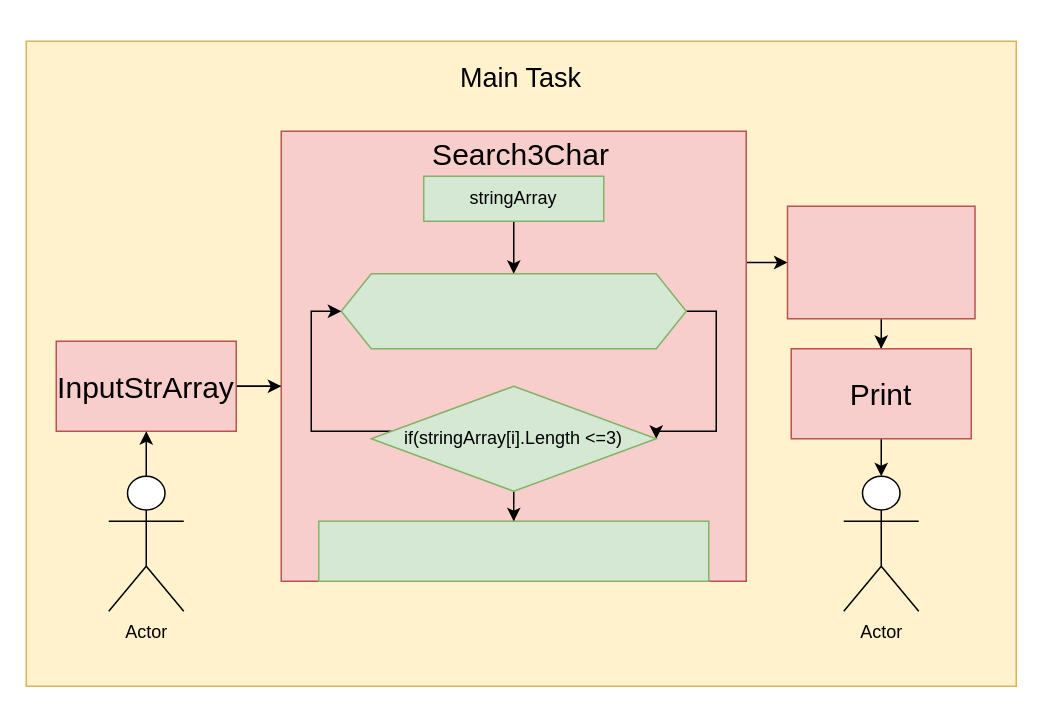
Some shapes in this 1043 by 713 pixel diagram are drawn without their labels. Here are the shapes that lost their labels. From the top down, the box of each, then its label:
(786, 205, 975, 319): New stringArray when string.lenght < 3
(340, 272, 686, 349): for (int i = 0;i<stringArray.Length;i++)
(317, 520, 709, 581): Array.Resize(ref rez, rez.Length + 1); rez[rez.Length - 1] = stringArray[i];
